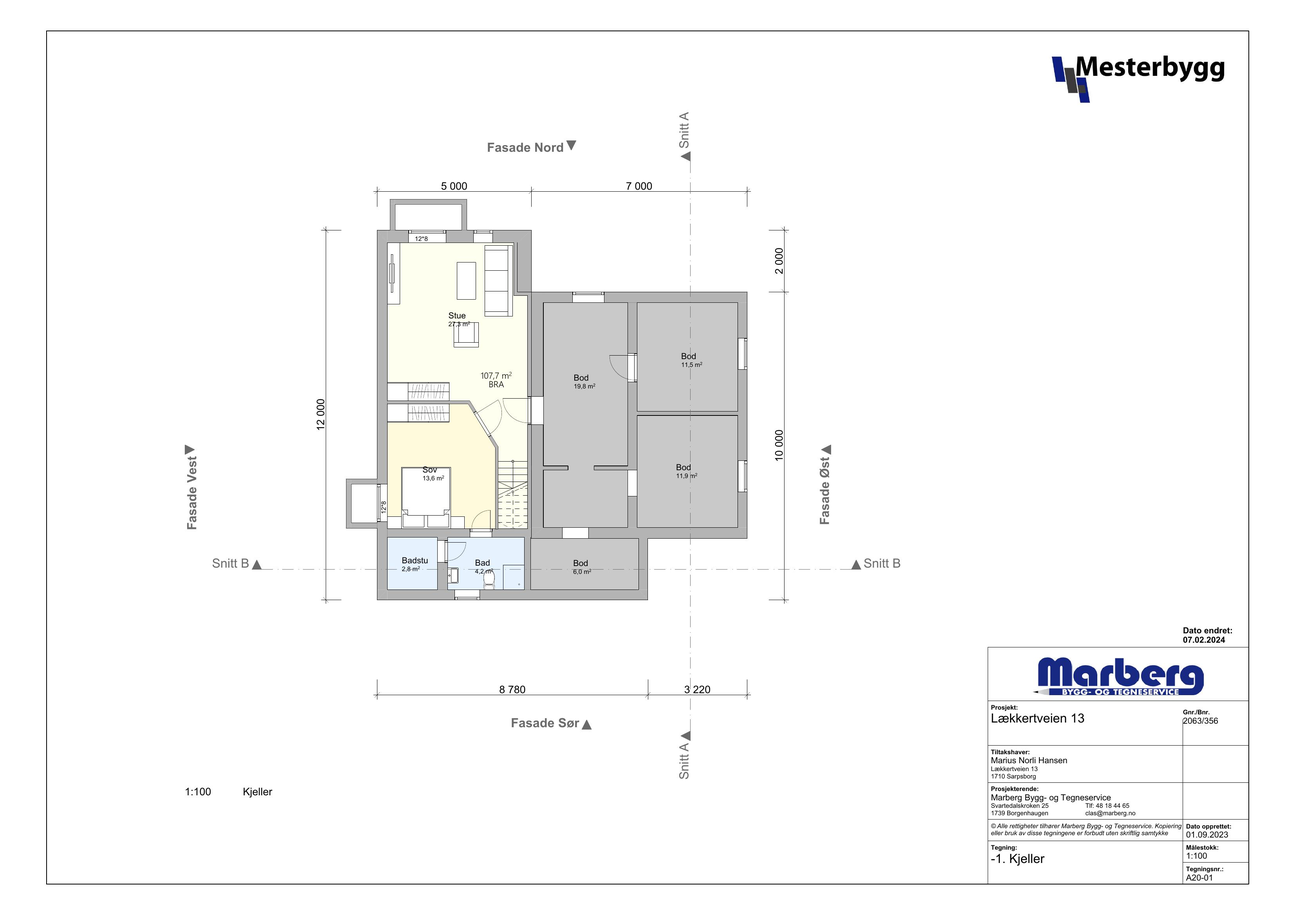plantegning: (345, 198, 750, 601)
